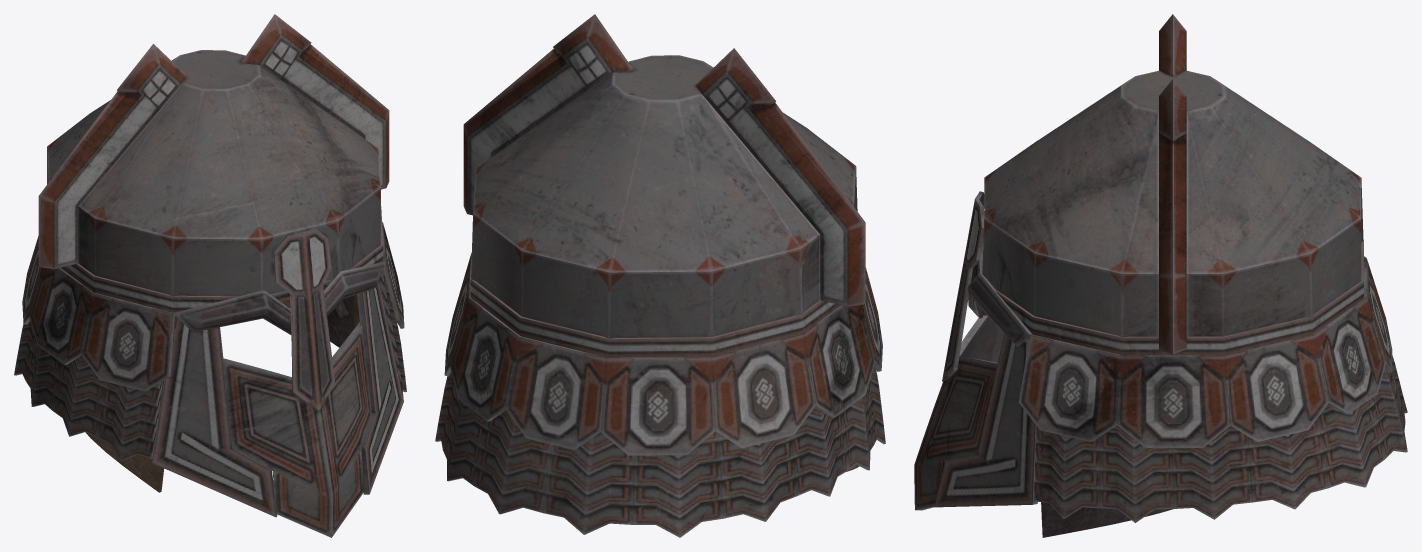
File: sk_dwarf_iron_helmet_elite_c1.fbx
The picture shows the model from 3 angles, left to right: view 1: azimuth 30°, elevation 25°; view 2: azimuth 150°, elevation 25°; view 3: azimuth 270°, elevation 25°; orthographic projection. The views are drawn at different scales.
Parts seen in each view (by area): view 1: sk_dwarf_iron_helmet_elite_c1.0, sk_dwarf_iron_helmet_elite_c1.lod.0, sk_dwarf_iron_helmet_elite_c1.1, sk_dwarf_iron_helmet_elite_c1.lod.1; view 2: sk_dwarf_iron_helmet_elite_c1.0, sk_dwarf_iron_helmet_elite_c1.lod.0; view 3: sk_dwarf_iron_helmet_elite_c1.0, sk_dwarf_iron_helmet_elite_c1.lod.0, sk_dwarf_iron_helmet_elite_c1.1.
Part boxes in pixels (x1,y1,x2,y2): sk_dwarf_iron_helmet_elite_c1.0: (14,14,406,537); sk_dwarf_iron_helmet_elite_c1.lod.0: (40,44,399,470); sk_dwarf_iron_helmet_elite_c1.1: (85,294,359,492); sk_dwarf_iron_helmet_elite_c1.lod.1: (158,280,380,490); sk_dwarf_iron_helmet_elite_c1.0: (435,14,885,537); sk_dwarf_iron_helmet_elite_c1.lod.0: (466,49,863,358); sk_dwarf_iron_helmet_elite_c1.0: (914,14,1407,522); sk_dwarf_iron_helmet_elite_c1.lod.0: (946,71,1365,459); sk_dwarf_iron_helmet_elite_c1.1: (1043,507,1173,537).
Bounding box in the file's own units: 0.3211 × 0.3572 × 0.3705.
